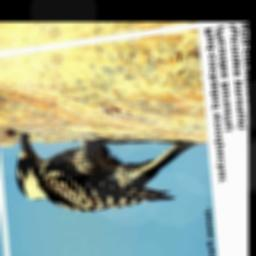Woodpecker: (12, 104, 202, 230)
